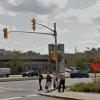traffic lights: (31, 18, 36, 32), (3, 29, 9, 40)
